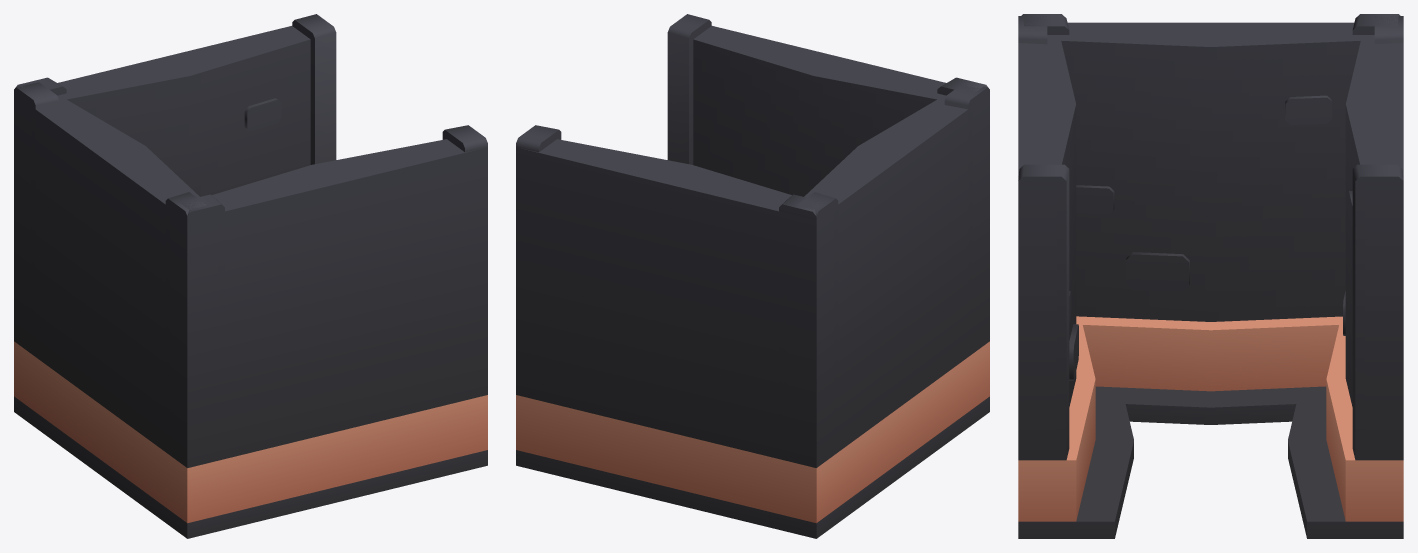
File: CorridorEndNew.obj
3 renders of one model, left to right at view 1: azimuth 30°, elevation 25°; view 2: azimuth 150°, elevation 25°; view 3: azimuth 270°, elevation 25°, orthographic. The views are drawn at different scales.
Visible parts, largest first — view 1: corridor-end; view 2: corridor-end; view 3: corridor-end.
Part boxes in pixels (<box>): corridor-end: <box>14,14,487,538</box>; corridor-end: <box>516,14,989,538</box>; corridor-end: <box>1018,14,1403,538</box>.
Bounding box in the file's own units: 4 × 4.15 × 4.
